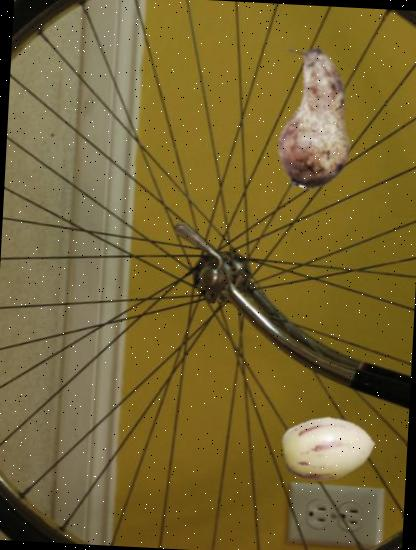Pear: (241, 46, 386, 191)
Pepino: (278, 398, 378, 499)
